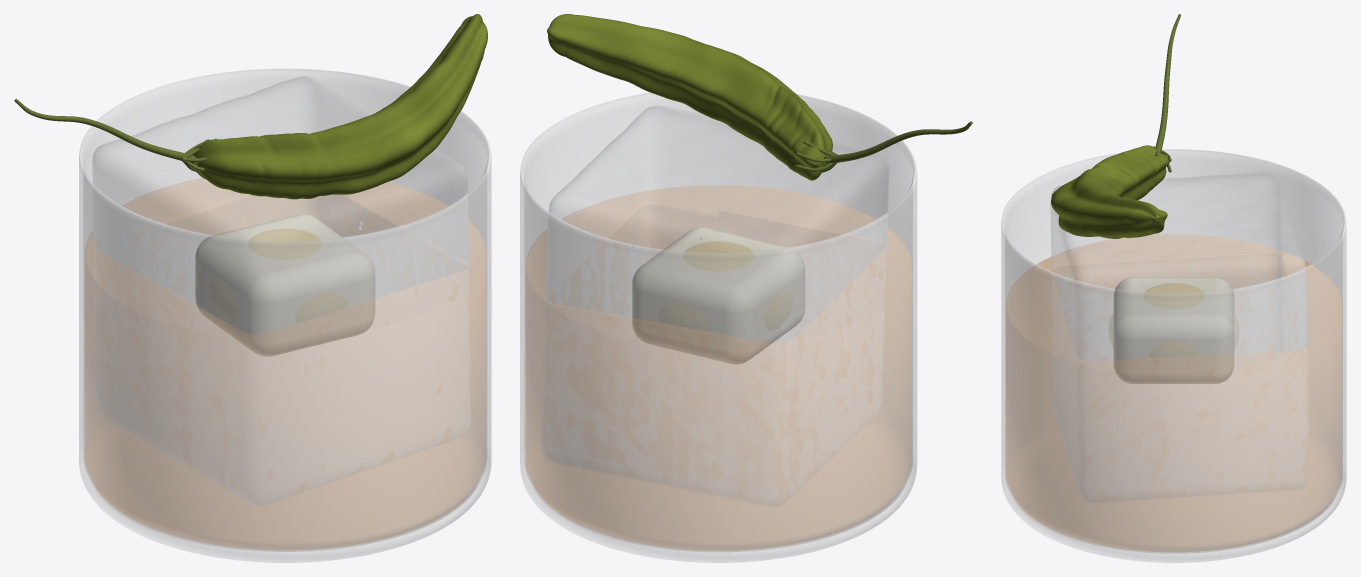
Rendered from negroni-express.glb.
The picture shows the model from 3 angles, left to right: view 1: azimuth 30°, elevation 25°; view 2: azimuth 150°, elevation 25°; view 3: azimuth 270°, elevation 25°; orthographic projection. The views are drawn at different scales.
Parts seen in each view (by area): view 1: glass, liquid, ice, garnish_shishito, recipe_bitter, recipe_modifiers, garnish_stem; view 2: glass, liquid, ice, recipe_bitter, garnish_shishito, recipe_modifiers, garnish_stem; view 3: glass, liquid, ice, recipe_bitter, garnish_shishito, recipe_modifiers, garnish_stem.
Part boxes in pixels (x1,y1,x2,y2): glass: [79, 68, 491, 562]; liquid: [85, 178, 485, 549]; ice: [92, 76, 468, 305]; garnish_shishito: [192, 14, 487, 199]; recipe_bitter: [195, 214, 374, 356]; recipe_modifiers: [208, 229, 346, 322]; garnish_stem: [14, 98, 216, 171]; glass: [520, 92, 916, 562]; liquid: [526, 185, 911, 550]; ice: [546, 106, 888, 342]; recipe_bitter: [632, 227, 804, 364]; garnish_shishito: [547, 14, 832, 180]; recipe_modifiers: [659, 241, 792, 330]; garnish_stem: [796, 121, 972, 172]; glass: [1001, 149, 1346, 562]; liquid: [1006, 234, 1341, 551]; ice: [1050, 172, 1306, 360]; recipe_bitter: [1114, 277, 1233, 383]; garnish_shishito: [1051, 145, 1169, 238]; recipe_modifiers: [1109, 283, 1238, 357]; garnish_stem: [1153, 14, 1180, 172].
Size of the model in its own units: 2.54 by 2.4 by 2.
